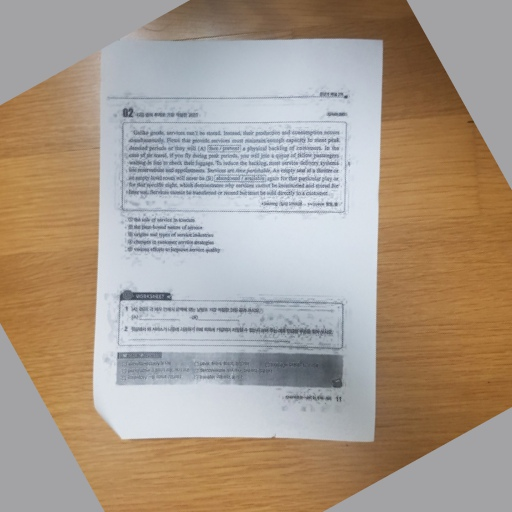Paper_2: (88, 29, 401, 462)
